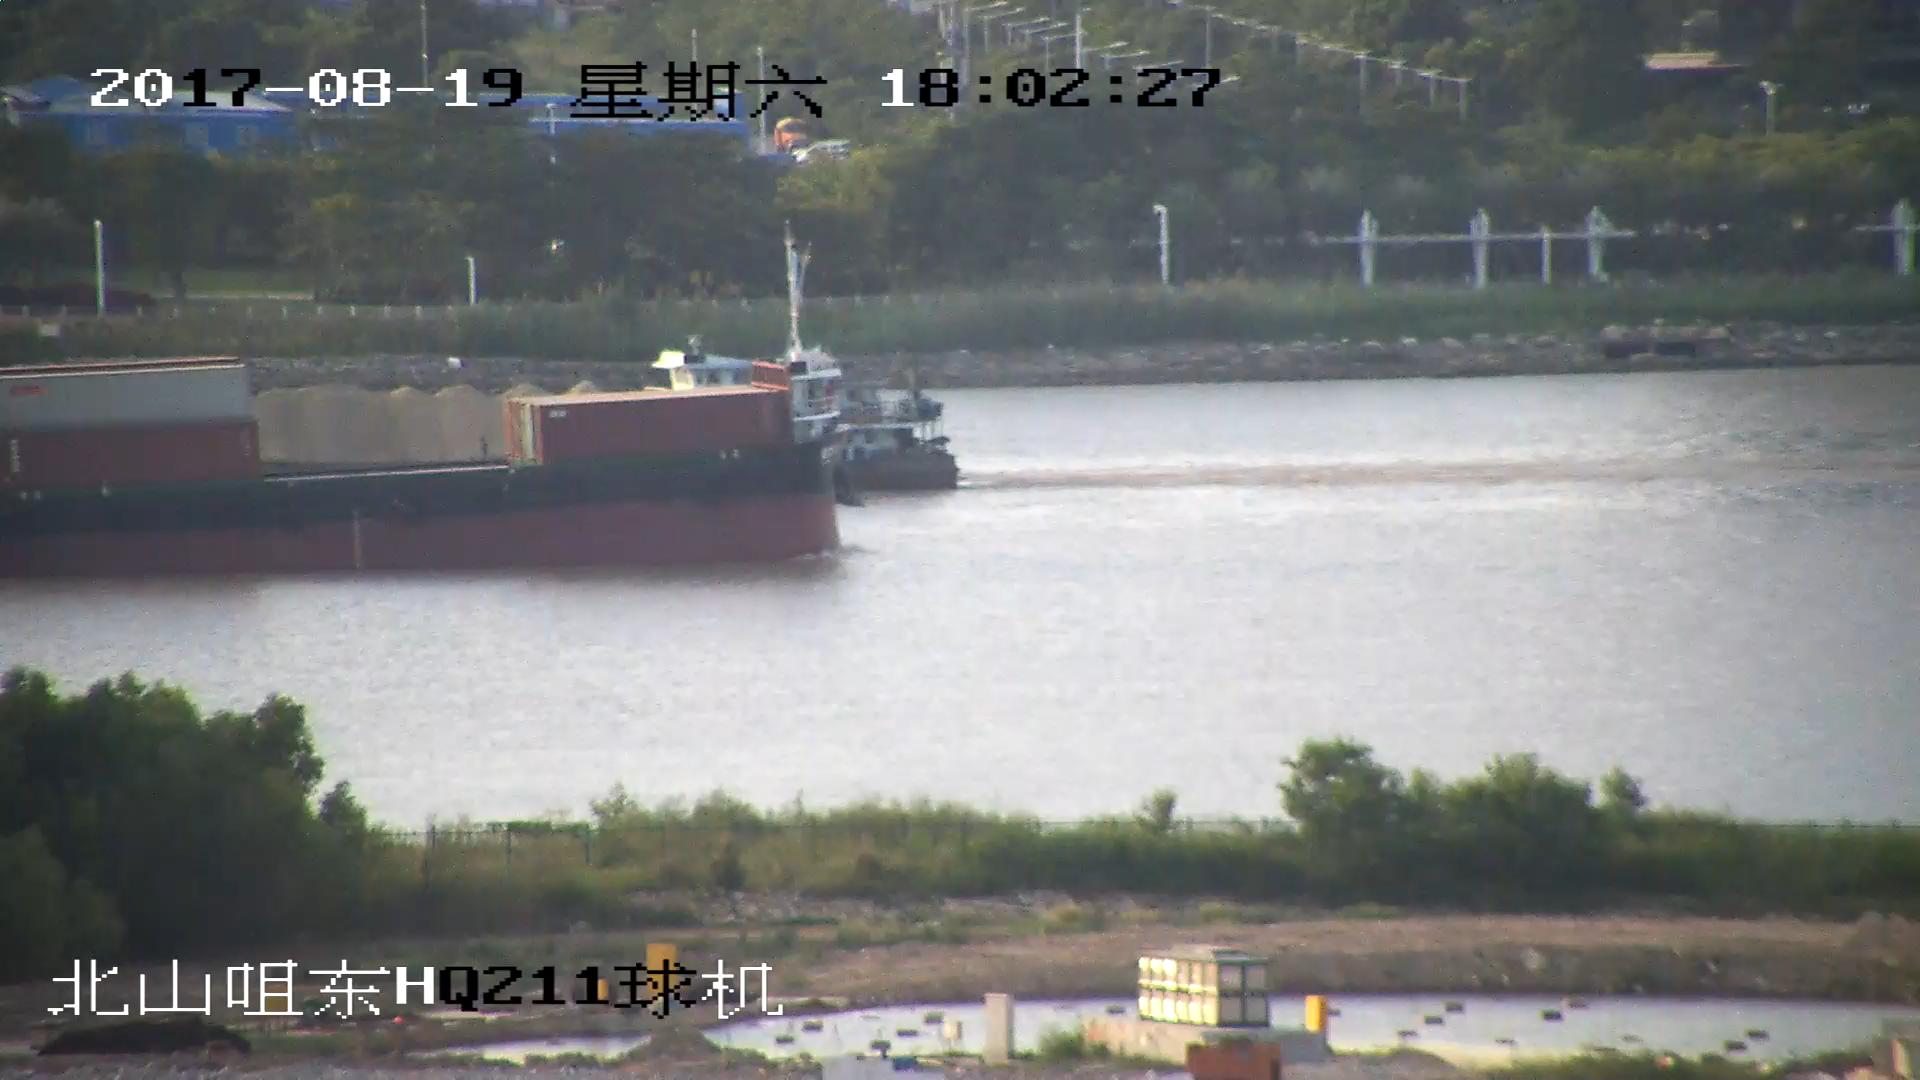container ship: (1, 346, 856, 570)
